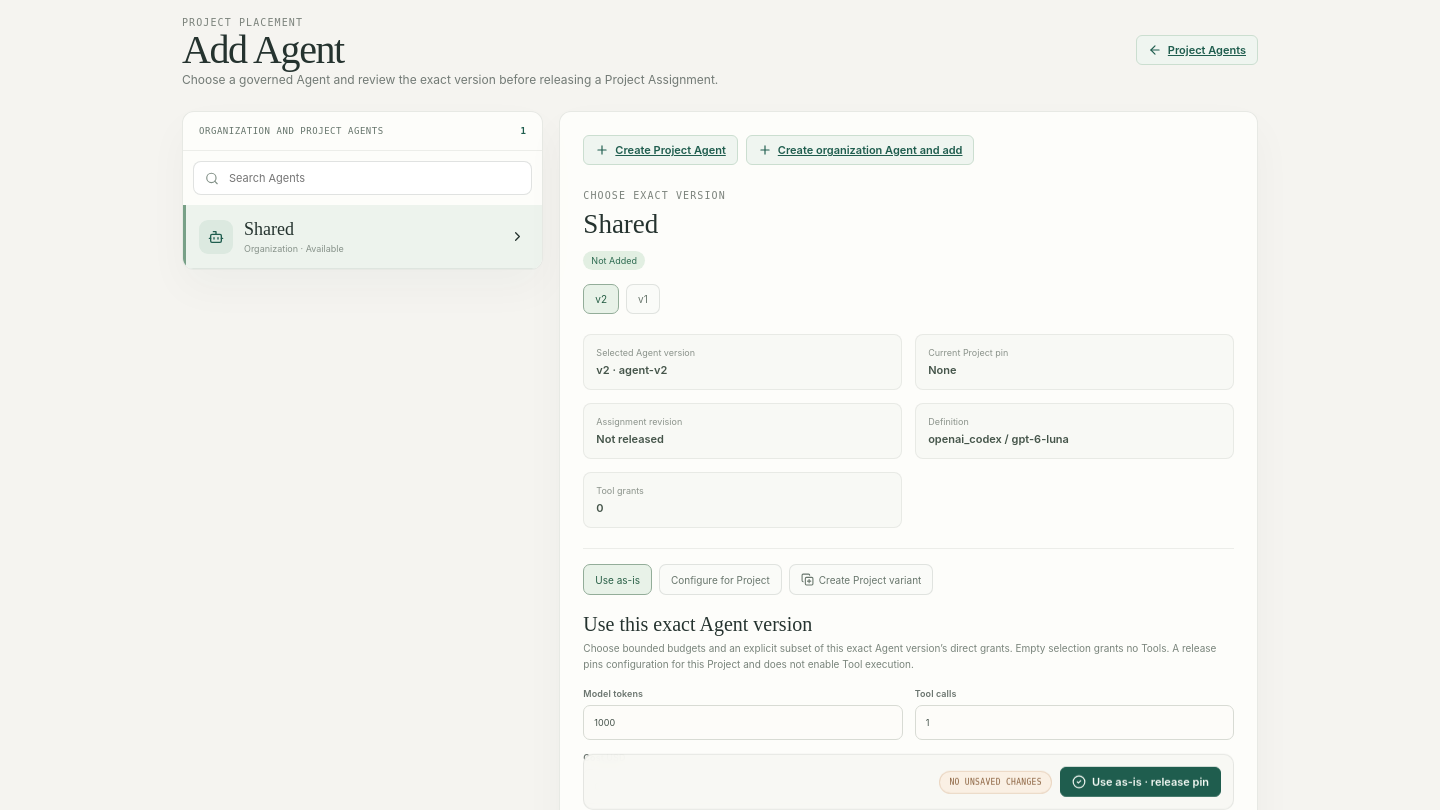
Test: Agent Library and Project assignment contract › reports a partial add when host authority refuses the release
The image size is (1440, 810).
Step 1. Click the button "Use as-is · release pin" → (1140, 782), box [1060,767,1221,797]
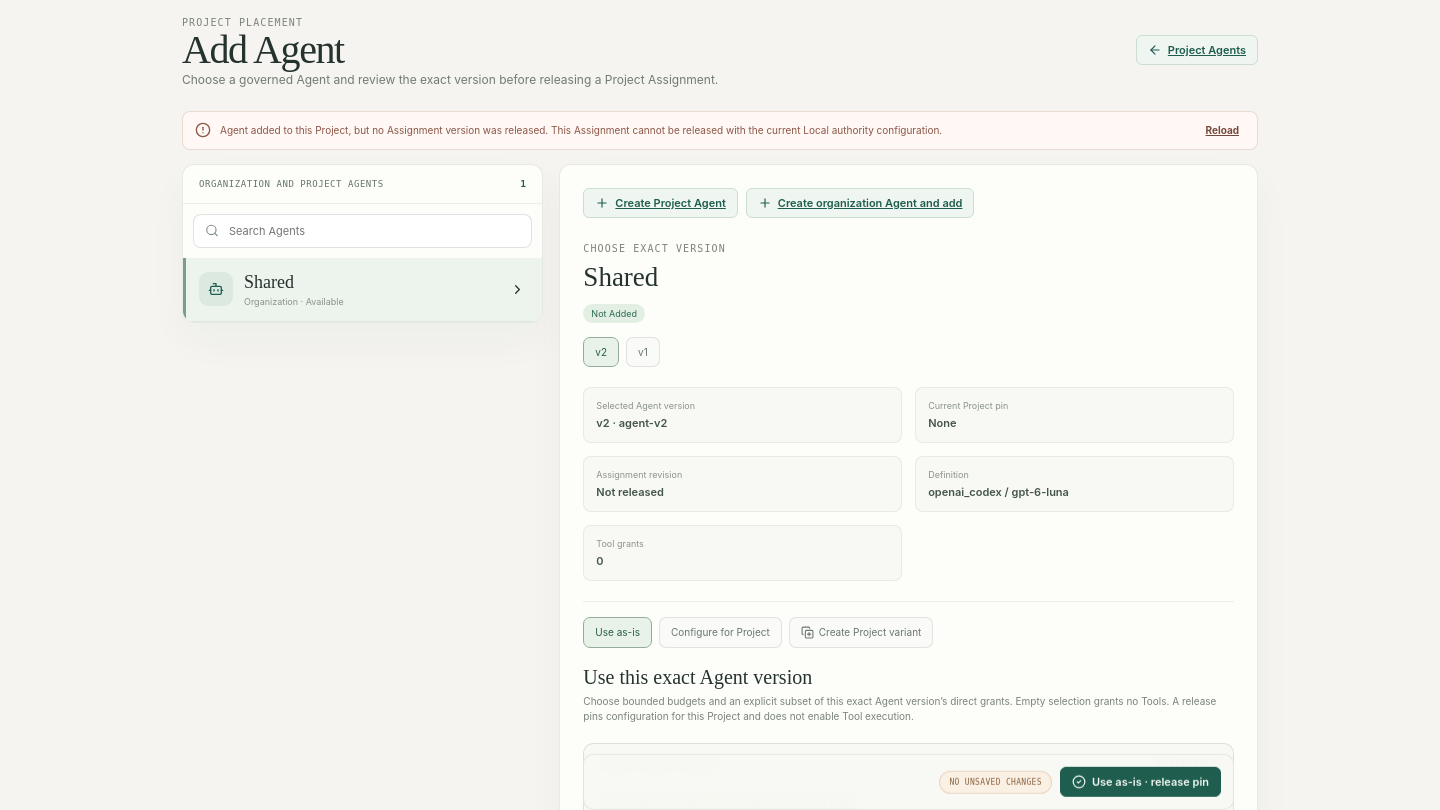
Check: the message shows "Agent added to this Project, but no Assignment version was released", box [220,124,942,136]
